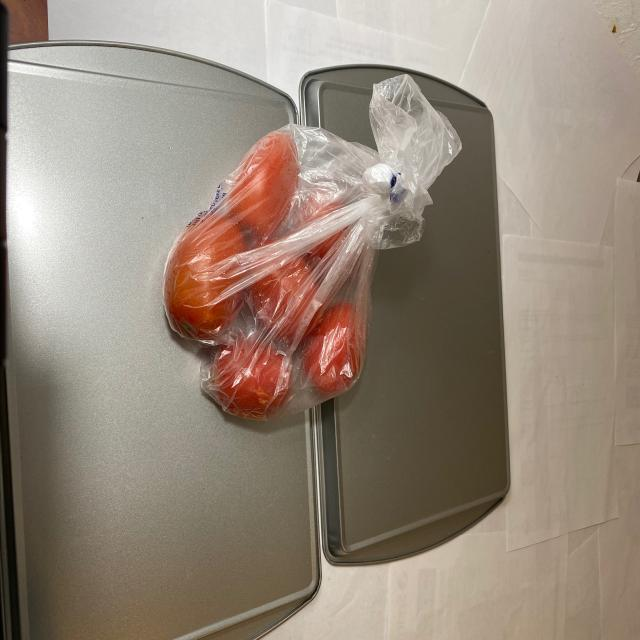tomato: (162, 121, 375, 418)
